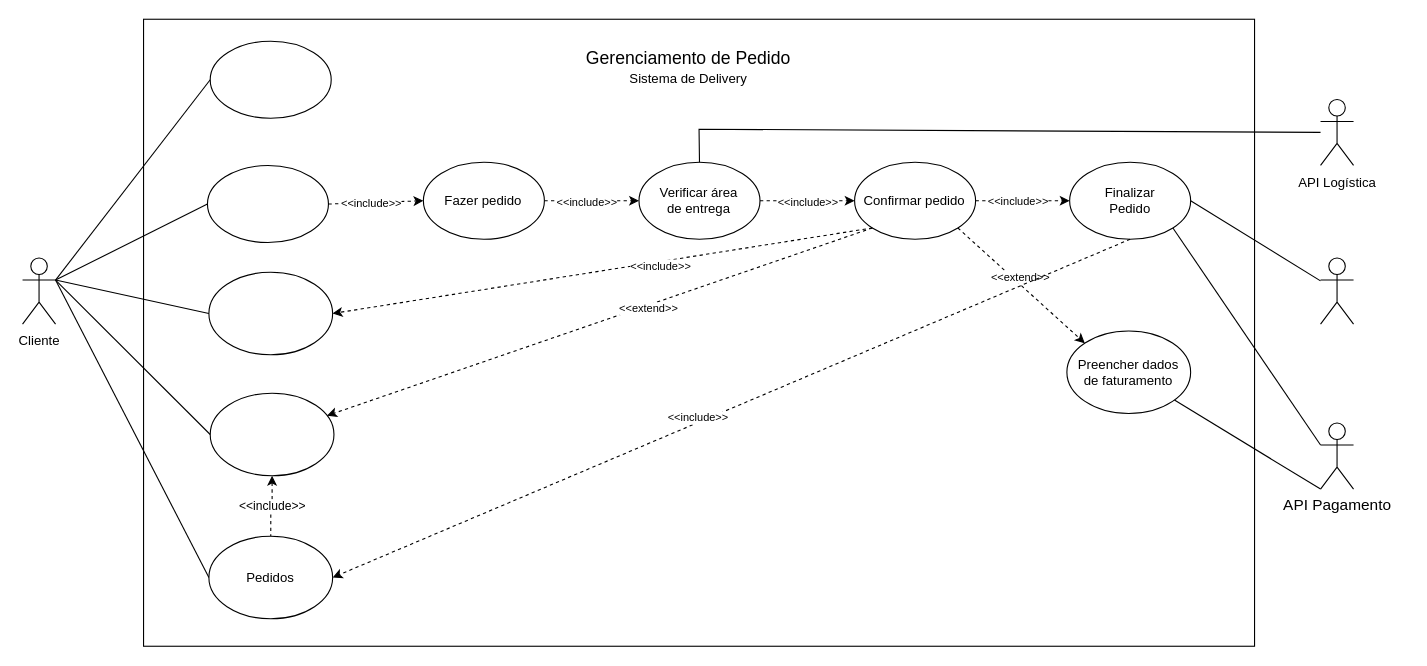
This 1427x666 diagram has some shape labels left out. Each missing label, with the centre of its shape:
Adicionar ao carrinho: the point at 267,203
Cadastro: the point at 270,313
Funcionário Delivery: the point at 1336,290
Login: the point at 271,434
Navegar pelo catálogo: the point at 270,79
